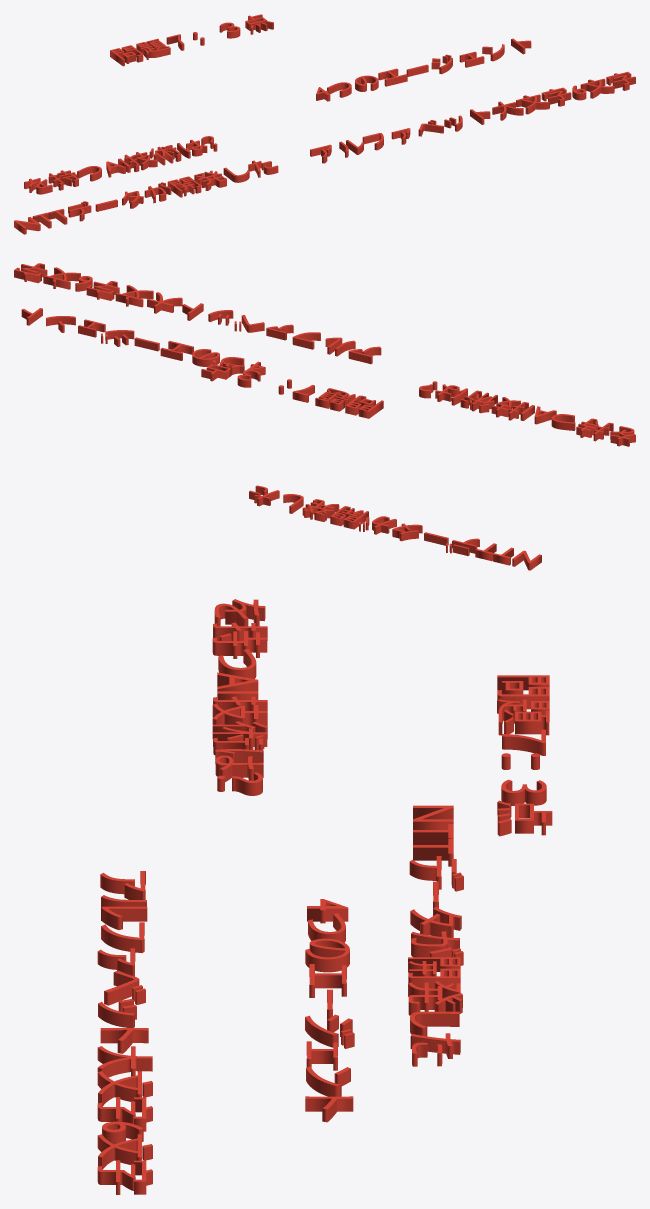
The picture shows the model from 3 angles, top to bottom: view 1: azimuth 30°, elevation 25°; view 2: azimuth 150°, elevation 25°; view 3: azimuth 270°, elevation 25°; orthographic projection. The views are drawn at different scales.
Parts seen in each view (by area): view 1: テキスト.003, テキスト.001, テキスト.002, テキスト.005, テキスト.004; view 2: テキスト.003, テキスト.001, テキスト.002, テキスト.005, テキスト.004; view 3: テキスト.003, テキスト.001, テキスト.002, テキスト.005, テキスト.004.
Part boxes in pixels (bbox=[...]): テキスト.003: bbox=[310, 72, 635, 163]; テキスト.001: bbox=[14, 160, 278, 234]; テキスト.002: bbox=[24, 136, 217, 194]; テキスト.005: bbox=[316, 38, 531, 101]; テキスト.004: bbox=[110, 14, 273, 66]; テキスト.003: bbox=[14, 263, 381, 364]; テキスト.001: bbox=[249, 485, 541, 570]; テキスト.002: bbox=[419, 381, 635, 446]; テキスト.005: bbox=[21, 308, 265, 375]; テキスト.004: bbox=[201, 360, 383, 418]; テキスト.003: bbox=[97, 871, 152, 1194]; テキスト.001: bbox=[408, 805, 463, 1066]; テキスト.002: bbox=[212, 599, 267, 795]; テキスト.005: bbox=[305, 899, 354, 1122]; テキスト.004: bbox=[497, 675, 552, 836].
Bounding box in the file's own units: 22.29 × 4.8 × 7.6.
